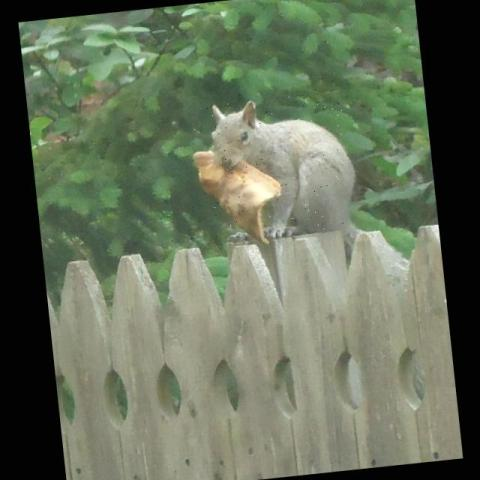small_animal: (208, 99, 358, 242)
